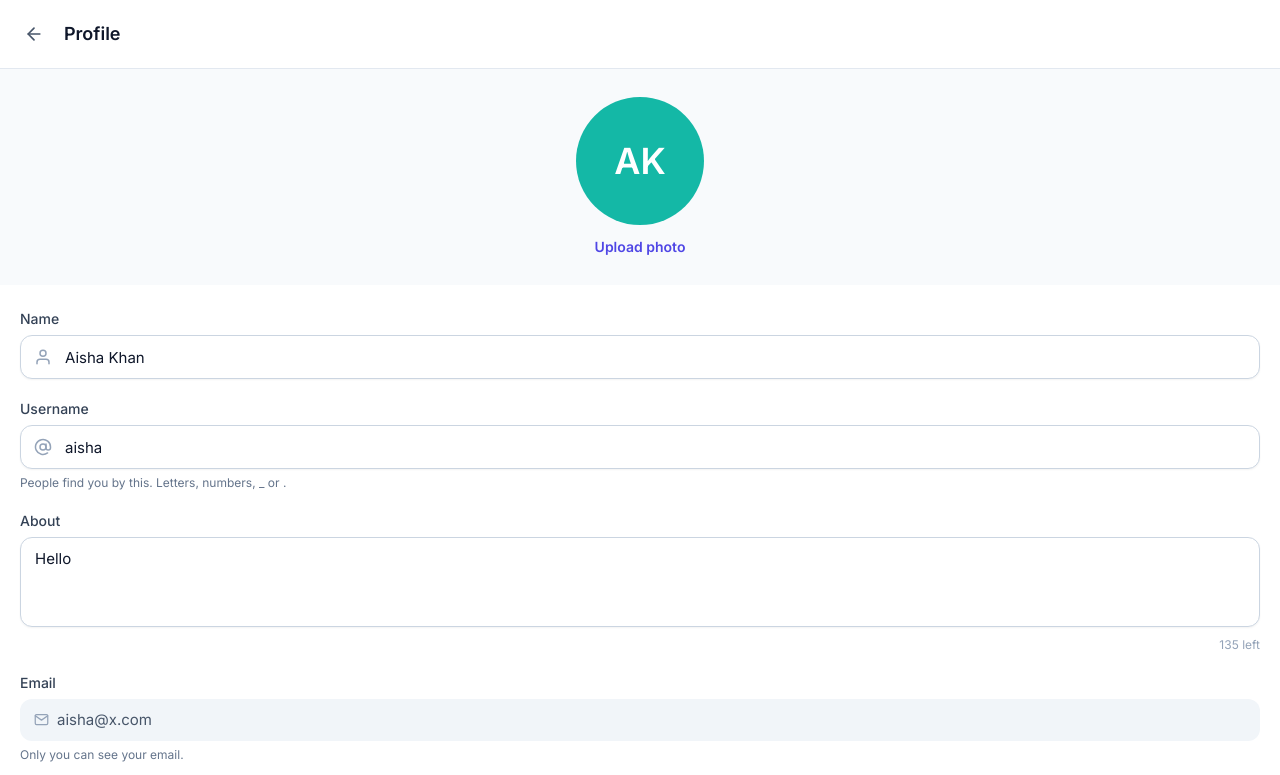
Test case: ProfilePanel › shows "username taken" from the server next to the field
This screenshot has width=1280, height=775.
Replace the text in the field showing "aisha" with "bilal" at (640, 447), box top-left (20, 425), bottom-right (1260, 469)
(page scrolled)
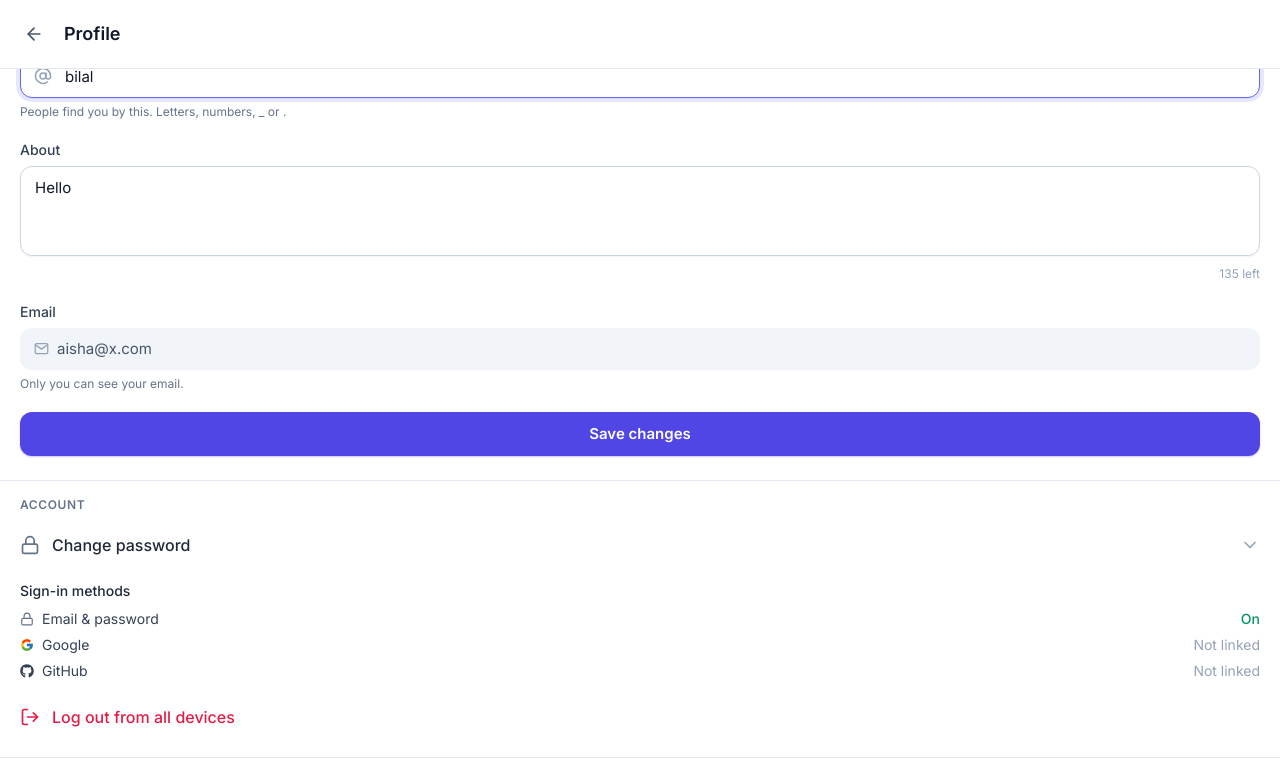
Click the button "Save changes" at (640, 434), box top-left (20, 412), bottom-right (1260, 456)
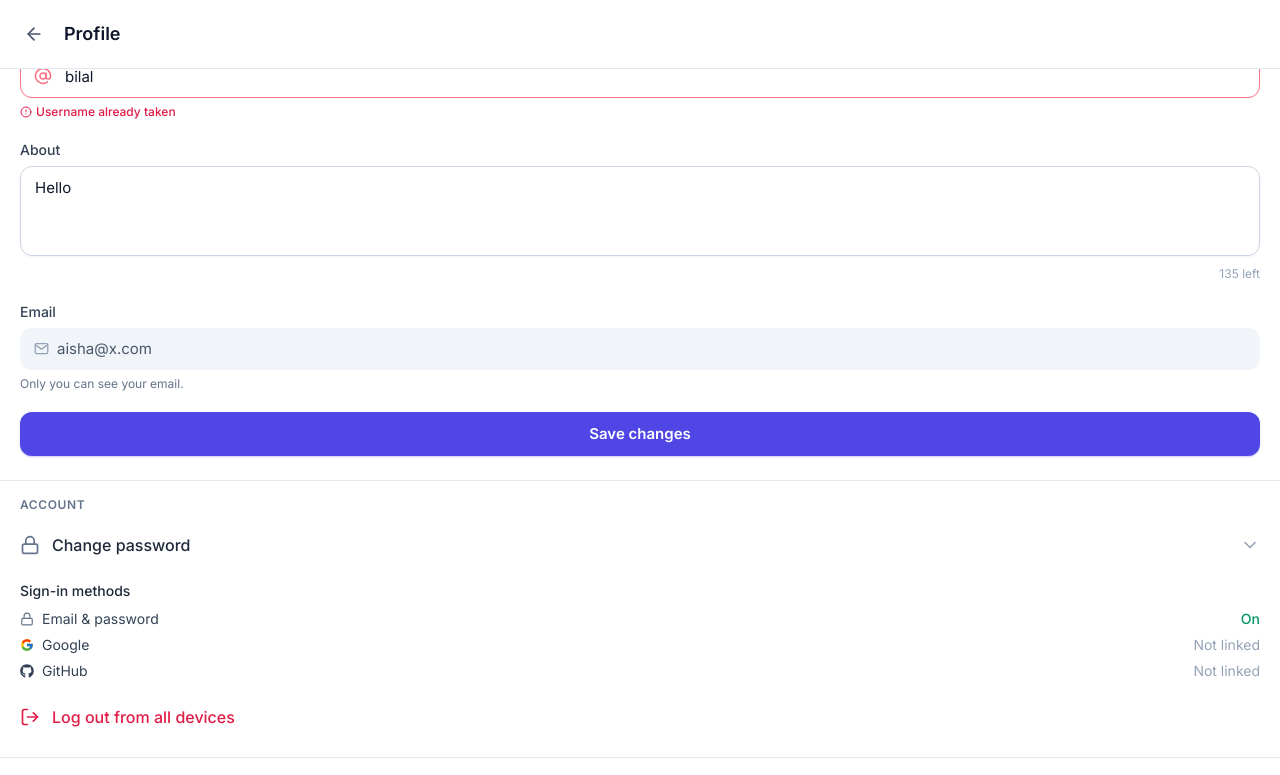
Now the message reads "Username already taken", box top-left (36, 104), bottom-right (176, 119)
